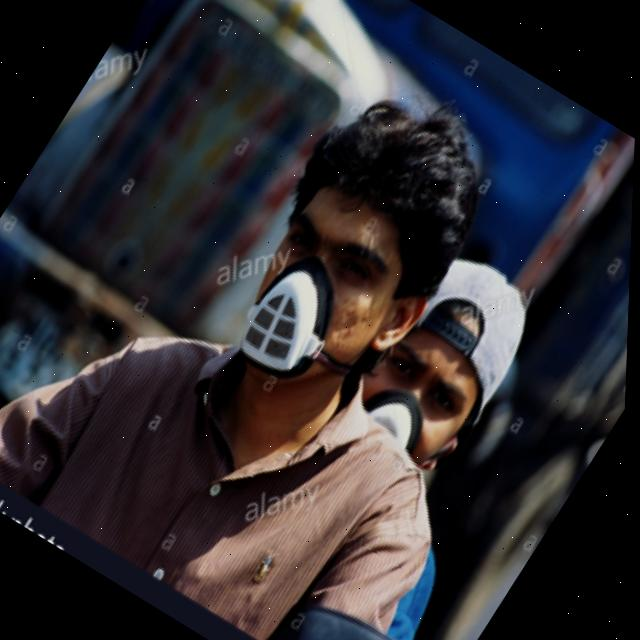Mask: (219, 198, 448, 427)
